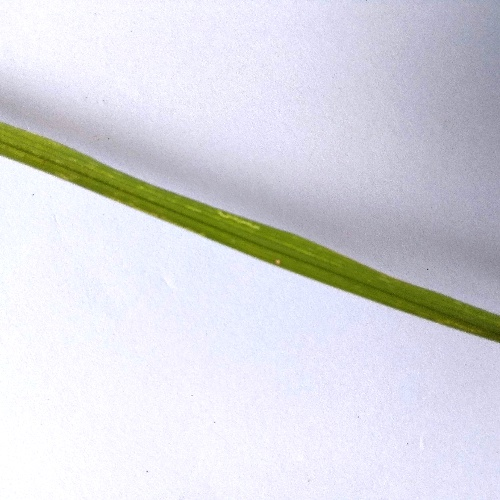Busuk Leher: (216, 205, 262, 231), (269, 256, 285, 267)
